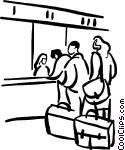person: (85, 33, 117, 116), (63, 39, 89, 110), (49, 48, 69, 100), (31, 51, 52, 77)
